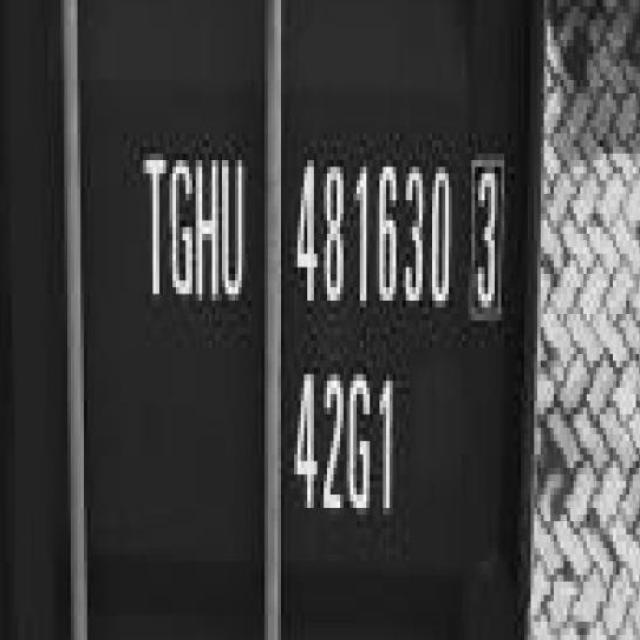dv: (462, 144, 512, 330)
owner: (128, 149, 251, 303)
serial: (288, 147, 457, 318)
size: (286, 362, 408, 519)
